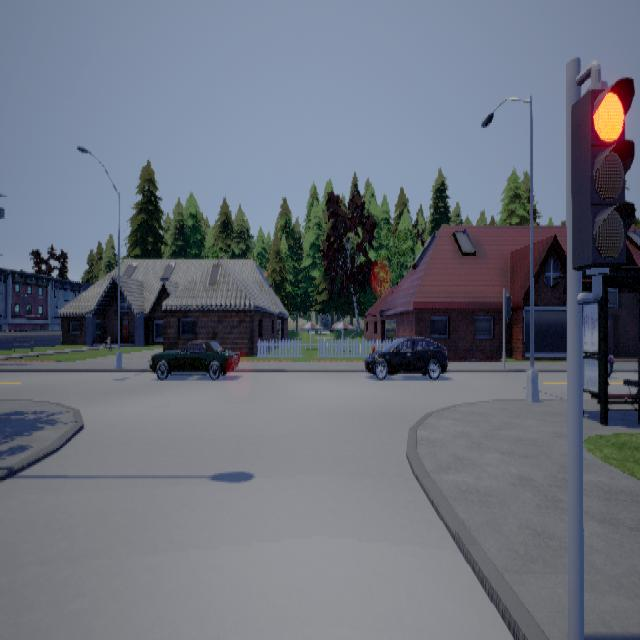red_light: (570, 59, 635, 303)
vehicle: (148, 338, 239, 379), (363, 335, 447, 379)
